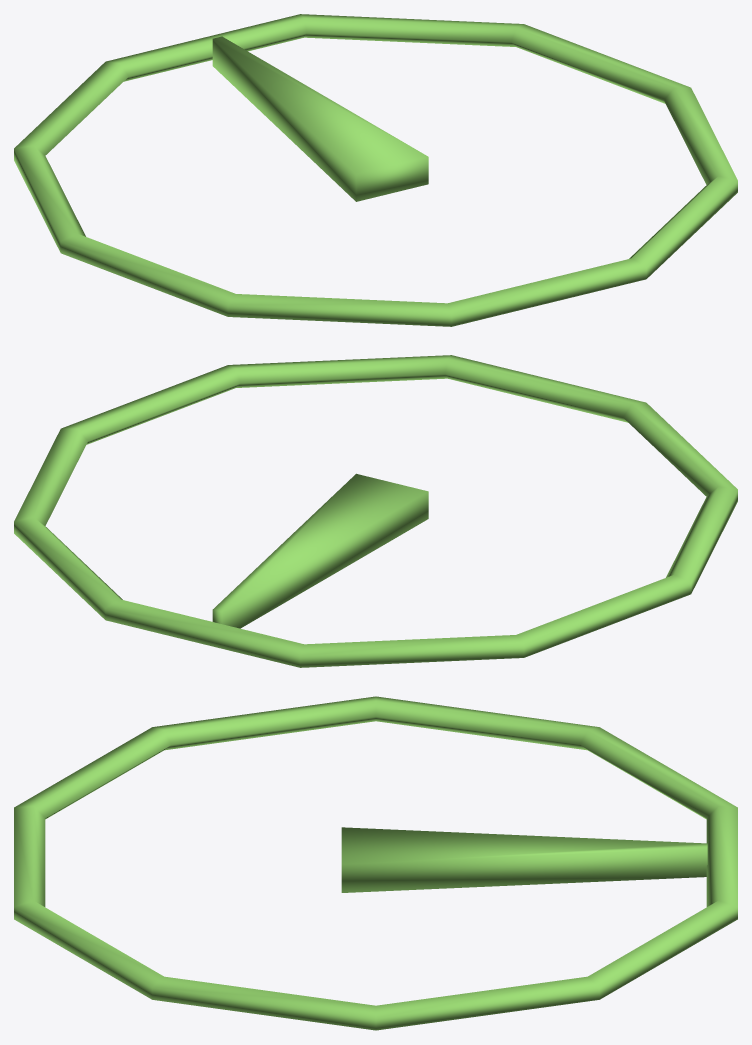
File: pointer ring.fbx
3 renders of one model, top to bottom at view 1: azimuth 30°, elevation 25°; view 2: azimuth 150°, elevation 25°; view 3: azimuth 270°, elevation 25°, orthographic. The views are drawn at different scales.
Visible parts, largest first — view 1: polySurface1; view 2: polySurface1; view 3: polySurface1.
Part boxes in pixels (box(x1,y1,x2,y2)): polySurface1: box(14, 14, 737, 326); polySurface1: box(14, 355, 737, 667); polySurface1: box(14, 696, 737, 1030).
Size of the model in its own units: 2.08 by 0.087 by 1.98.
